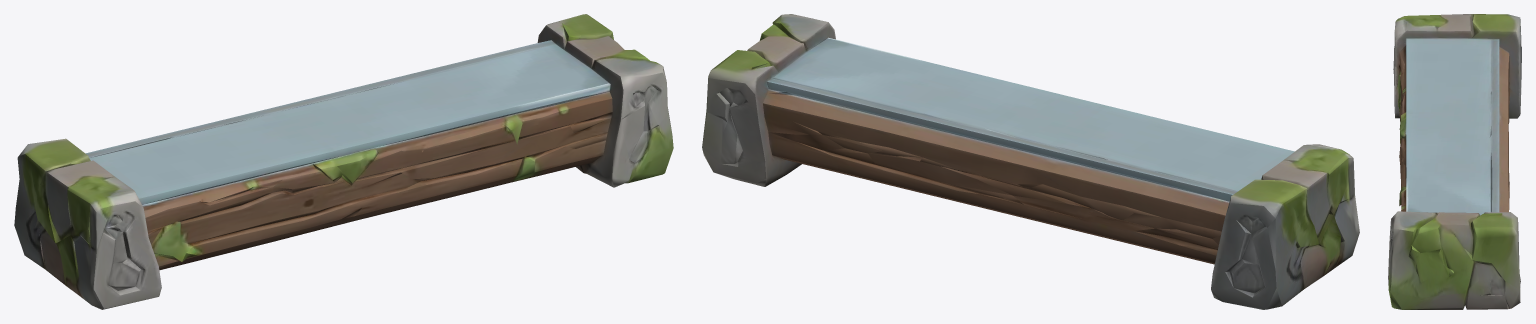
File: m2BalanceBeam.glb
3 renders of one model, left to right at view 1: azimuth 30°, elevation 25°; view 2: azimuth 150°, elevation 25°; view 3: azimuth 270°, elevation 25°, orthographic. The views are drawn at different scales.
Parts seen in each view (by area): view 1: model; view 2: model; view 3: model.
Part boxes in pixels (x1,y1,x2,y2): model: [14, 14, 673, 309]; model: [702, 14, 1359, 309]; model: [1388, 14, 1521, 309].
Bounding box in the file's own units: 1.91 × 0.3401 × 0.4926.
Materials: 1 (1 with a texture image).
